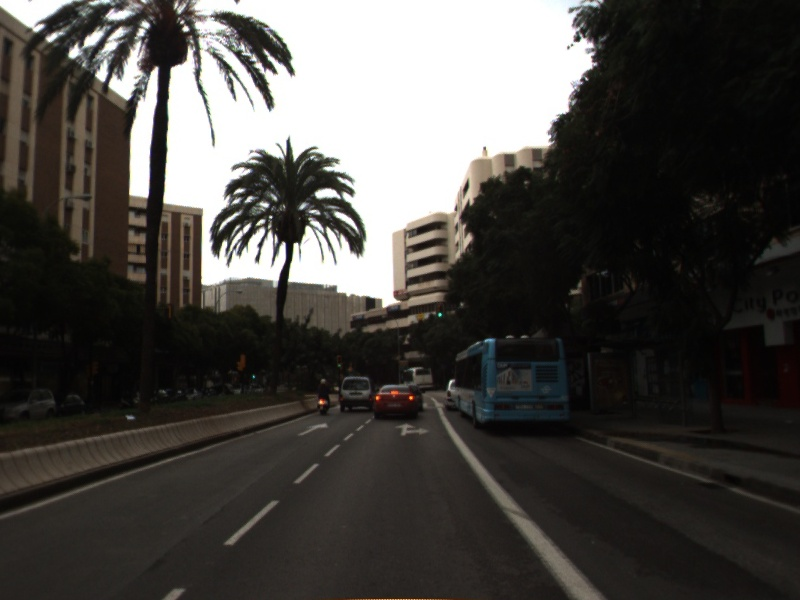STRAIGHT: (295, 421, 330, 438)
STRAIGHT_RIGHT: (393, 421, 432, 438)
